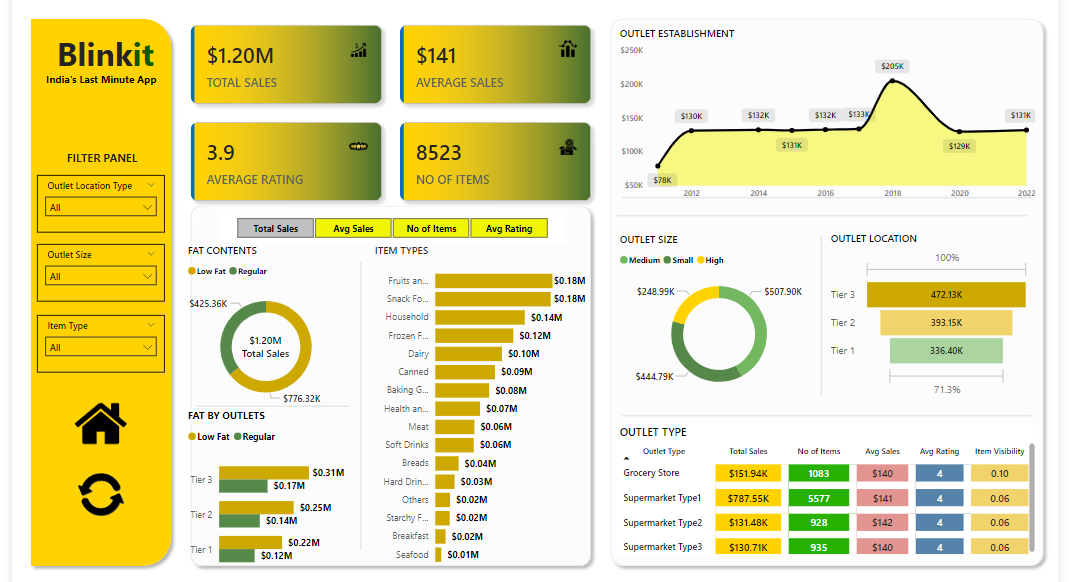

This screenshot's page, from the dashboard's own definition file:
{"tool":"powerbi","page":{"name":"Page 1","canvas":[1400,800],"ordinal":0},"visuals":[{"type":"shape","box":[16,24,206,750],"z":0},{"type":"textbox","box":[16,46,206,82],"z":1000},{"type":"textbox","box":[26,100,188,28],"z":2000},{"type":"cardVisual","fields":{"Data":["Grocery Market Data.Total Sales","Grocery Market Data.Avg Sales","Grocery Market Data.Avg Rating","Grocery Market Data.No of Items"]},"box":[222.7,23.7,570.1,270.1],"z":3000},{"type":"shape","box":[230.6,274.2,553.2,500],"z":4000},{"type":"donutChart","title":"FAT CONTENTS","fields":{"Y":["Grocery Market Data.Total Sales"],"Category":["Grocery Market Data.Item Fat Content"]},"box":[230.6,333.9,219.4,230.6],"z":5000},{"type":"slicer","fields":{"Values":["Matrics.Matrics"]},"box":[275.8,293.5,464.5,40.3],"z":6000},{"type":"cardVisual","fields":{"Data":["Grocery Market Data.Total Sales"]},"box":[285.5,433.9,108.1,75.8],"z":7000},{"type":"clusteredBarChart","title":"FAT BY OUTLETS","fields":{"Y":["Grocery Market Data.Total Sales"],"Category":["Grocery Market Data.Outlet Location Type"],"Series":["Grocery Market Data.Item Fat Content"]},"box":[230.6,554.8,219.4,230.6],"z":8000},{"type":"shape","box":[246.8,541.9,204.8,19.4],"z":9000},{"type":"shape","box":[451.6,358.1,29,385.5],"z":10000},{"type":"barChart","title":"ITEM TYPES","fields":{"Y":["Grocery Market Data.Total Sales"],"Category":["Grocery Market Data.Item Type"]},"box":[480.6,333.9,291.9,440.3],"z":11000},{"type":"shape","box":[791.9,24.2,596.8,750],"z":12000},{"type":"lineChart","title":"OUTLET ESTABLISHMENT","fields":{"Y":["Grocery Market Data.Total Sales"],"Category":["Grocery Market Data.Outlet Establishment Year"]},"box":[808.1,43.5,566.1,240.3],"z":13000},{"type":"shape","box":[816.1,267.7,548.4,9.7],"z":14000},{"type":"donutChart","title":"OUTLET SIZE","fields":{"Y":["Grocery Market Data.Total Sales"],"Category":["Grocery Market Data.Outlet Size"]},"box":[808.1,319.4,275.8,225.8],"z":15000},{"type":"shape","box":[1075.8,322.6,14.5,214.5],"z":16000},{"type":"funnel","title":"OUTLET LOCATION","fields":{"Y":["Sum(Grocery Market Data.Sales)"],"Category":["Grocery Market Data.Outlet Location Type"]},"box":[1090.3,317.7,275.8,225.8],"z":17000},{"type":"shape","box":[816.1,559.7,548.4,9.7],"z":18000},{"type":"pivotTable","title":"OUTLET TYPE","fields":{"Rows":["Grocery Market Data.Outlet Type"],"Values":["Grocery Market Data.Total Sales","Grocery Market Data.No of Items","Grocery Market Data.Avg Sales","Grocery Market Data.Avg Rating","Avg(Grocery Market Data.Item Visibility)"]},"box":[808.1,575.8,566.1,179],"z":19000},{"type":"shape","box":[809.7,291.9,548.4,9.7],"z":20000},{"type":"slicer","fields":{"Values":["Grocery Market Data.Outlet Location Type"]},"box":[33.9,241.9,171,77.4],"z":21000},{"type":"slicer","fields":{"Values":["Grocery Market Data.Outlet Size"]},"box":[33.9,333.9,171,77.4],"z":22000},{"type":"slicer","fields":{"Values":["Grocery Market Data.Item Type"]},"box":[33.9,429,171,77.4],"z":23000},{"type":"textbox","box":[45.2,203.2,150,35.5],"z":24000},{"type":"image","box":[75.8,535.5,85.5,79],"z":25000},{"type":"image","box":[75.8,630.6,85.5,79],"z":26000}]}

Visuals, with their boxes on the page's 1400x800 design canvas (x1, y1, x2, y2). These are canvas units, not pixel positions in the 1076x582 screenshot, which may show the page scaled, cropped or inside an application window:
shape: <region>16, 24, 222, 774</region>
textbox: <region>16, 46, 222, 128</region>
textbox: <region>26, 100, 214, 128</region>
cardVisual - Grocery Market Data.Total Sales x Grocery Market Data.Avg Sales: <region>223, 24, 793, 294</region>
shape: <region>231, 274, 784, 774</region>
"FAT CONTENTS" donutChart: <region>231, 334, 450, 564</region>
slicer - Matrics.Matrics: <region>276, 294, 740, 334</region>
cardVisual - Grocery Market Data.Total Sales: <region>286, 434, 394, 510</region>
"FAT BY OUTLETS" clusteredBarChart: <region>231, 555, 450, 785</region>
shape: <region>247, 542, 452, 561</region>
shape: <region>452, 358, 481, 744</region>
"ITEM TYPES" barChart: <region>481, 334, 772, 774</region>
shape: <region>792, 24, 1389, 774</region>
"OUTLET ESTABLISHMENT" lineChart: <region>808, 44, 1374, 284</region>
shape: <region>816, 268, 1364, 277</region>
"OUTLET SIZE" donutChart: <region>808, 319, 1084, 545</region>
shape: <region>1076, 323, 1090, 537</region>
"OUTLET LOCATION" funnel: <region>1090, 318, 1366, 544</region>
shape: <region>816, 560, 1364, 569</region>
"OUTLET TYPE" pivotTable: <region>808, 576, 1374, 755</region>
shape: <region>810, 292, 1358, 302</region>
slicer - Grocery Market Data.Outlet Location Type: <region>34, 242, 205, 319</region>
slicer - Grocery Market Data.Outlet Size: <region>34, 334, 205, 411</region>
slicer - Grocery Market Data.Item Type: <region>34, 429, 205, 506</region>
textbox: <region>45, 203, 195, 239</region>
image: <region>76, 536, 161, 614</region>
image: <region>76, 631, 161, 710</region>
